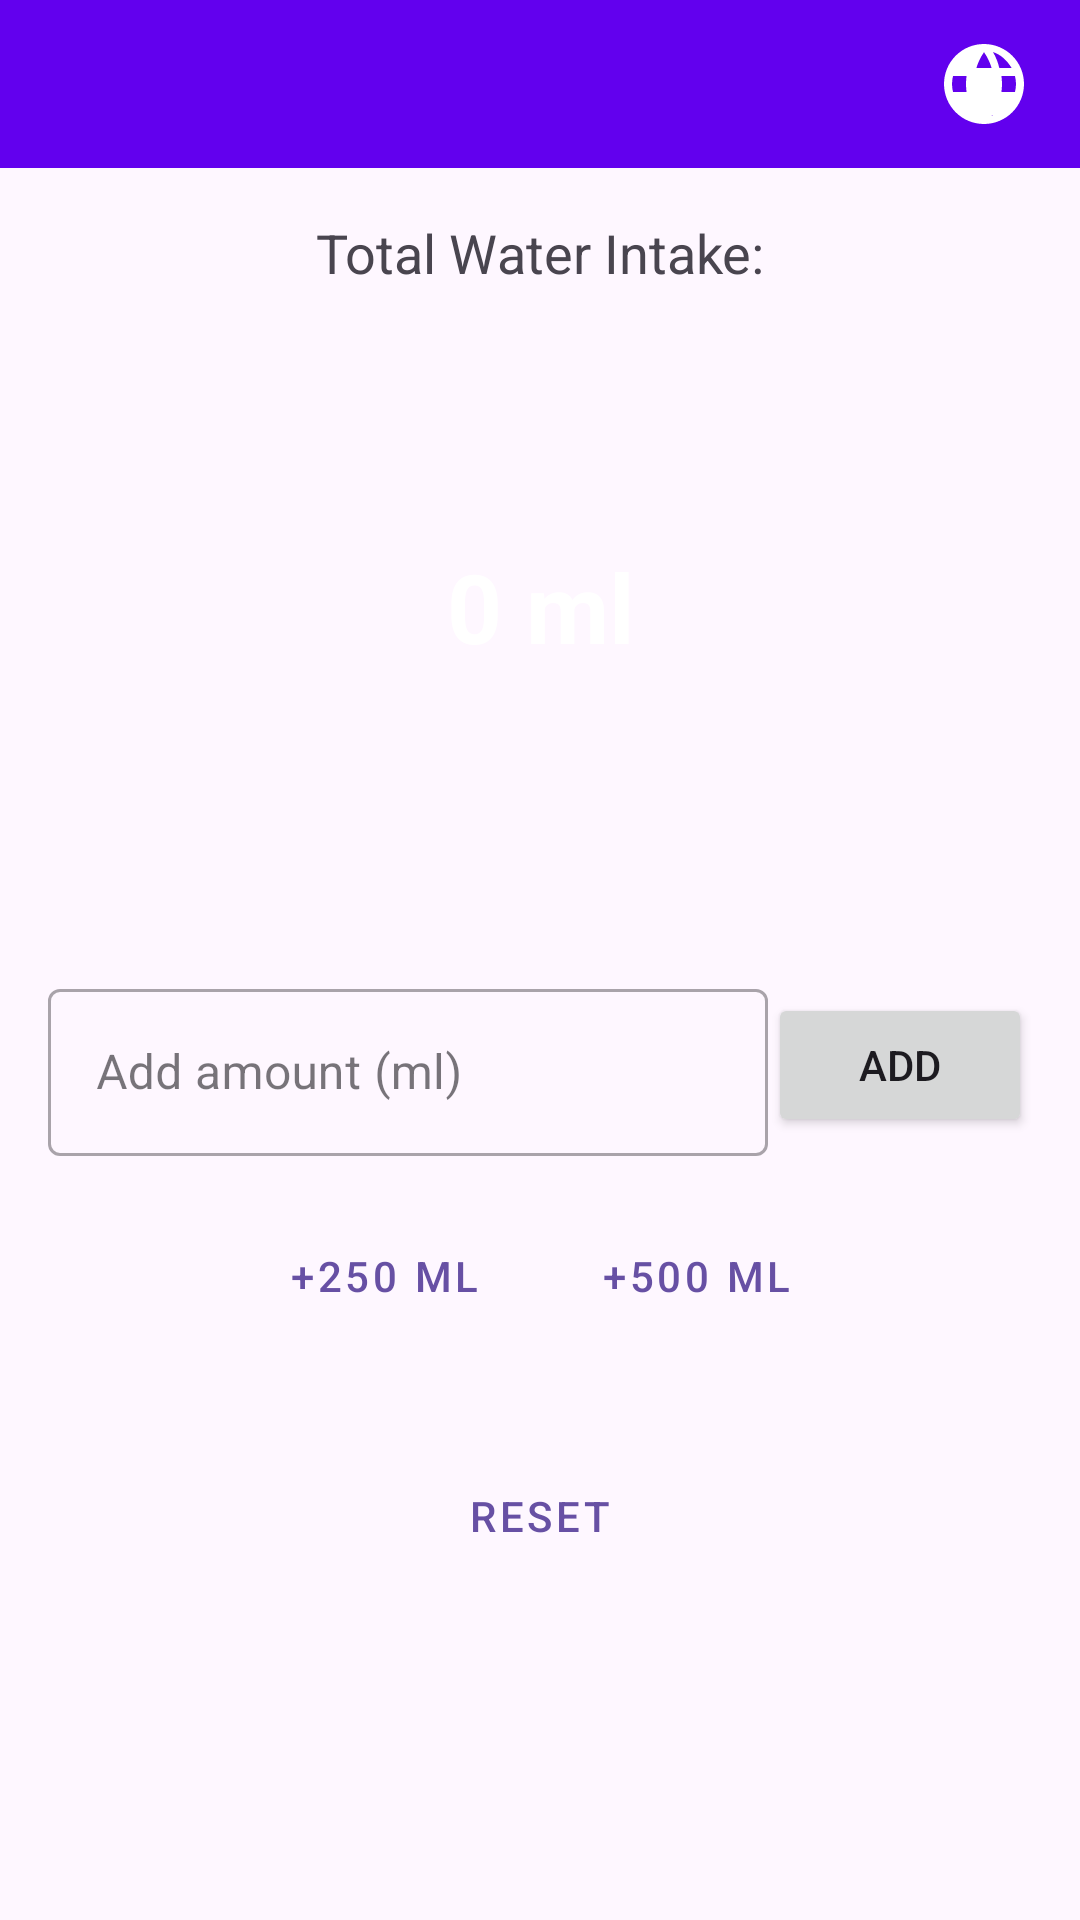

Named icons in this screenshot (1080px×1920px) and their centers, point (x, y):
Change Language: point (984, 84)
